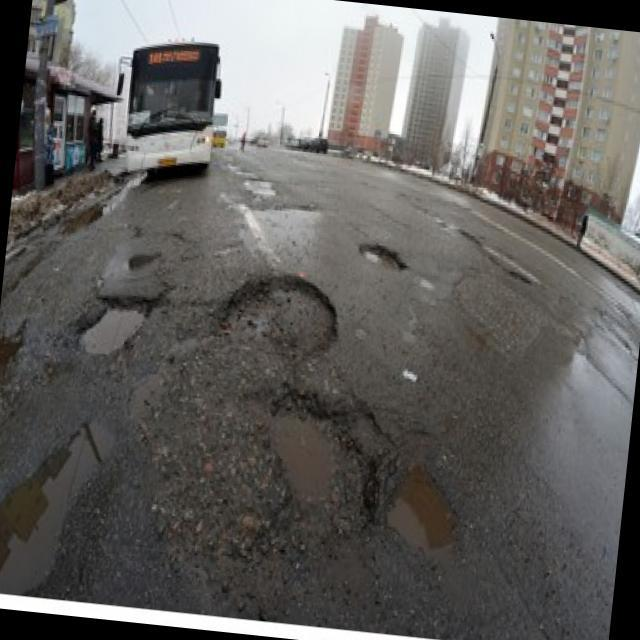Pothole: (256, 386, 356, 512), (218, 268, 344, 364), (362, 446, 467, 556), (74, 287, 156, 363), (356, 240, 408, 272), (508, 268, 534, 288)
